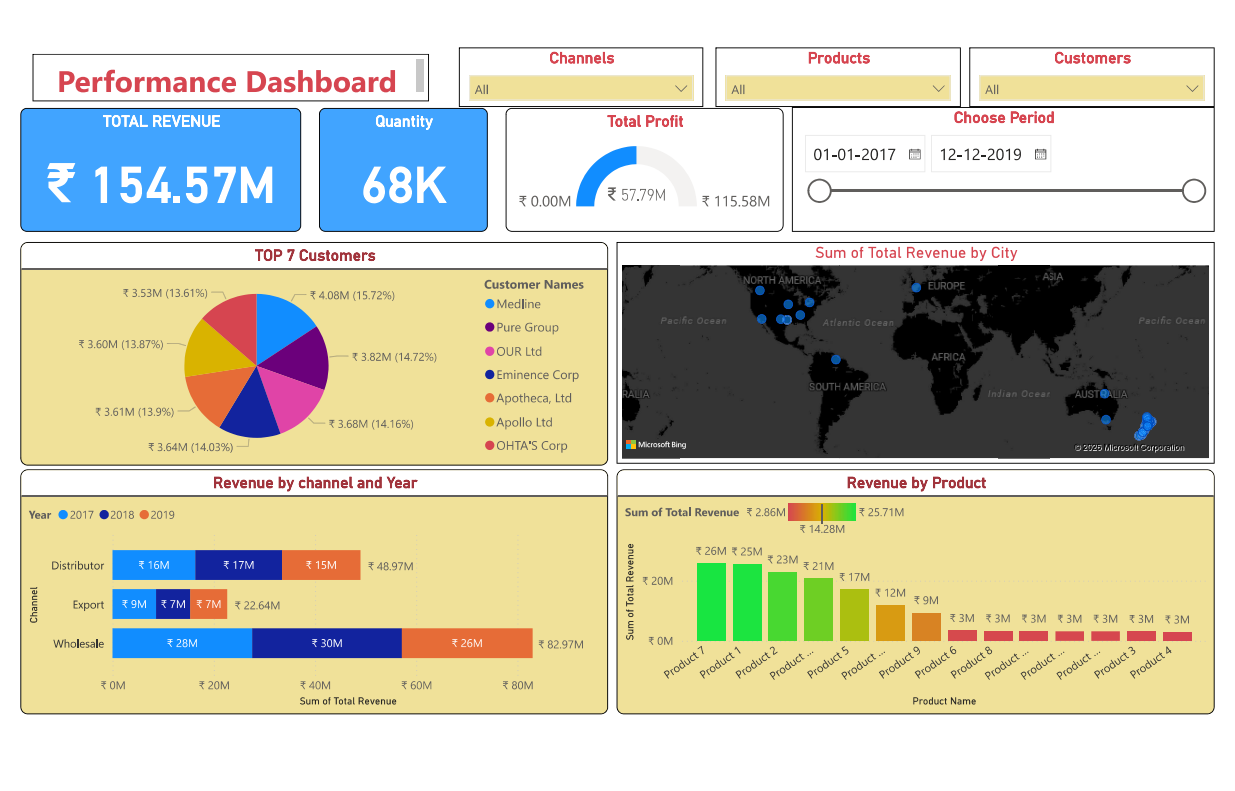

What the dashboard file says about the page in this screenshot:
{"tool":"powerbi","page":{"name":"Page 1","canvas":[1280,720],"ordinal":0},"visuals":[{"type":"barChart","title":"Revenue by channel and Year","fields":{"Category":["Sales_Data.Channel"],"Y":["Sum(Sales_Data.Total Revenue)"],"Series":["Sales_Data.OrderDate.Variation.Date Hierarchy.Year"]},"box":[0,456.9,629.8,263.5],"z":0},{"type":"columnChart","title":"Revenue by Product","fields":{"Category":["Products_Data.Product Name"],"Y":["Sum(Sales_Data.Total Revenue)"]},"box":[639.5,456.9,640.8,263.5],"z":1000},{"type":"pieChart","title":"TOP 7 Customers","fields":{"Category":["Customer_Data.Customer Names"],"Y":["Sum(Sales_Data.Total Revenue)"]},"box":[0,212.7,629.8,240.1],"z":2000},{"type":"map","fields":{"Category":["Regions_Table.City"],"Size":["Sum(Sales_Data.Total Revenue)"]},"box":[639.5,212.7,640.8,238.8],"z":3000},{"type":"card","title":"TOTAL REVENUE","fields":{"Values":["Sum(Sales_Data.Total Revenue)"]},"box":[0,68.6,300.5,133.1],"z":4000},{"type":"card","title":"Quantity","fields":{"Values":["Sum(Sales_Data.Order Quantity)"]},"box":[319.7,68.6,181.1,133.1],"z":5000},{"type":"gauge","title":"Total Profit","fields":{"Y":["Sum(Sales_Data.Profit)"]},"box":[520.1,68.6,297.8,133.1],"z":6000},{"type":"slicer","title":"Choose Period","fields":{"Values":["Sales_Data.OrderDate"]},"box":[826.6,68.5,453.7,133.3],"z":7000},{"type":"slicer","title":"Customers","fields":{"Values":["Customer_Data.Customer Names"]},"box":[1017.4,3.7,262.9,64.8],"z":8000},{"type":"slicer","title":"Products","fields":{"Values":["Products_Data.Product Name"]},"box":[744.7,3.7,262.9,64.8],"z":8001},{"type":"slicer","title":"Channels","fields":{"Values":["Sales_Data.Channel"]},"box":[469.6,3.7,262.9,64.8],"z":8002},{"type":"textbox","box":[13.5,11,424.3,51.4],"z":8003}]}

Visuals, with their boxes in screenshot pixels (x1, y1, x2, y2):
"Revenue by channel and Year" barChart: (35,461,613,703)
"Revenue by Product" columnChart: (622,461,1210,703)
"TOP 7 Customers" pieChart: (35,237,613,457)
map - Regions_Table.City x Sum(Sales_Data.Total Revenue): (622,237,1210,456)
"TOTAL REVENUE" card: (35,105,311,227)
"Quantity" card: (329,105,495,227)
"Total Profit" gauge: (513,105,786,227)
"Choose Period" slicer: (794,105,1210,227)
"Customers" slicer: (969,45,1210,105)
"Products" slicer: (719,45,960,105)
"Channels" slicer: (466,45,708,105)
textbox: (48,52,437,99)
